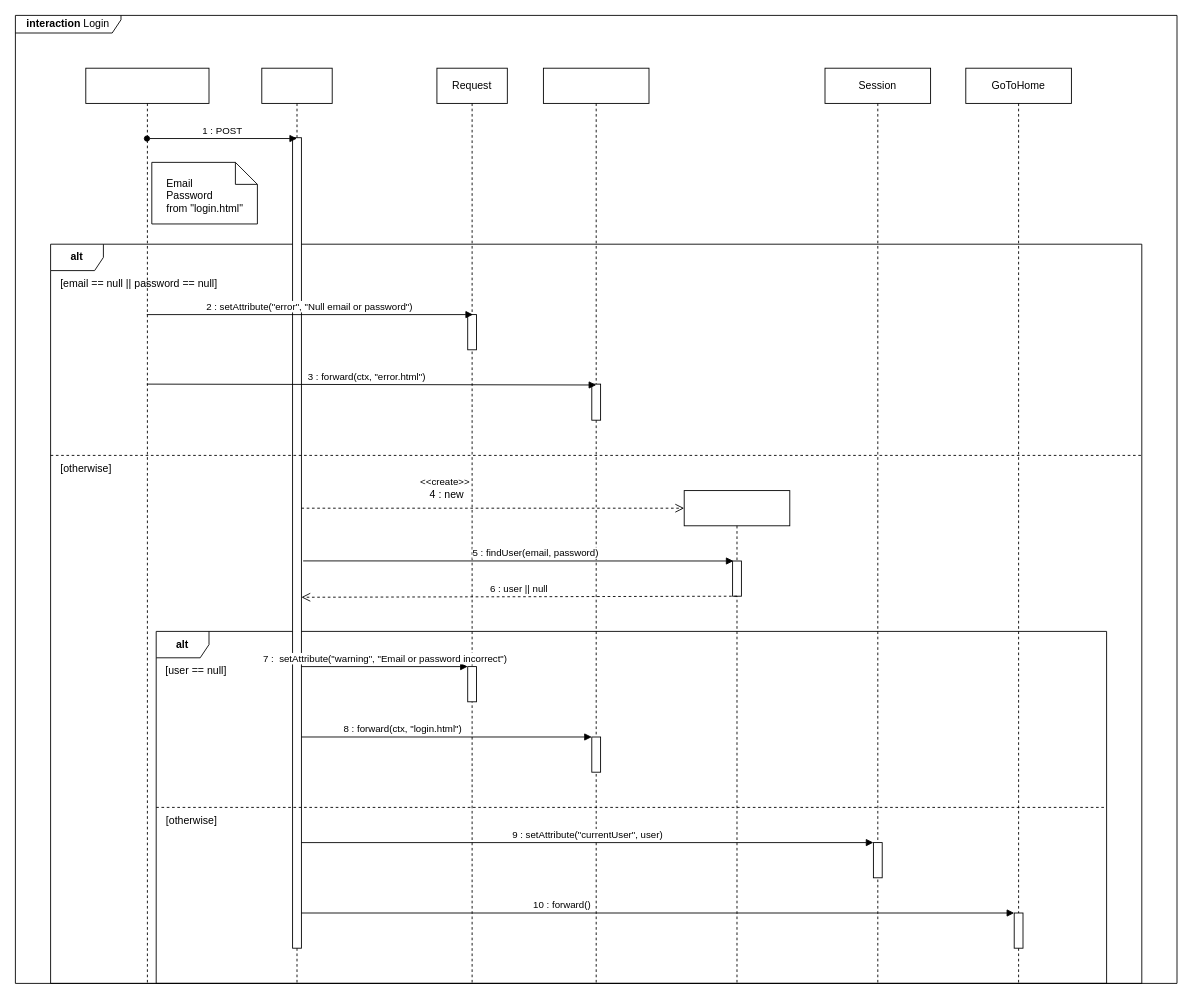
Some shapes in this 1192 by 999 pixel diagram are drawn without their labels. The box of each missing label's shape, as (x1, y1, x2, y2) in pixels:
Browser: (85, 67, 209, 983)
Login: (261, 67, 332, 983)
Template Engine: (543, 67, 649, 983)
UserDAO: (683, 490, 790, 983)
